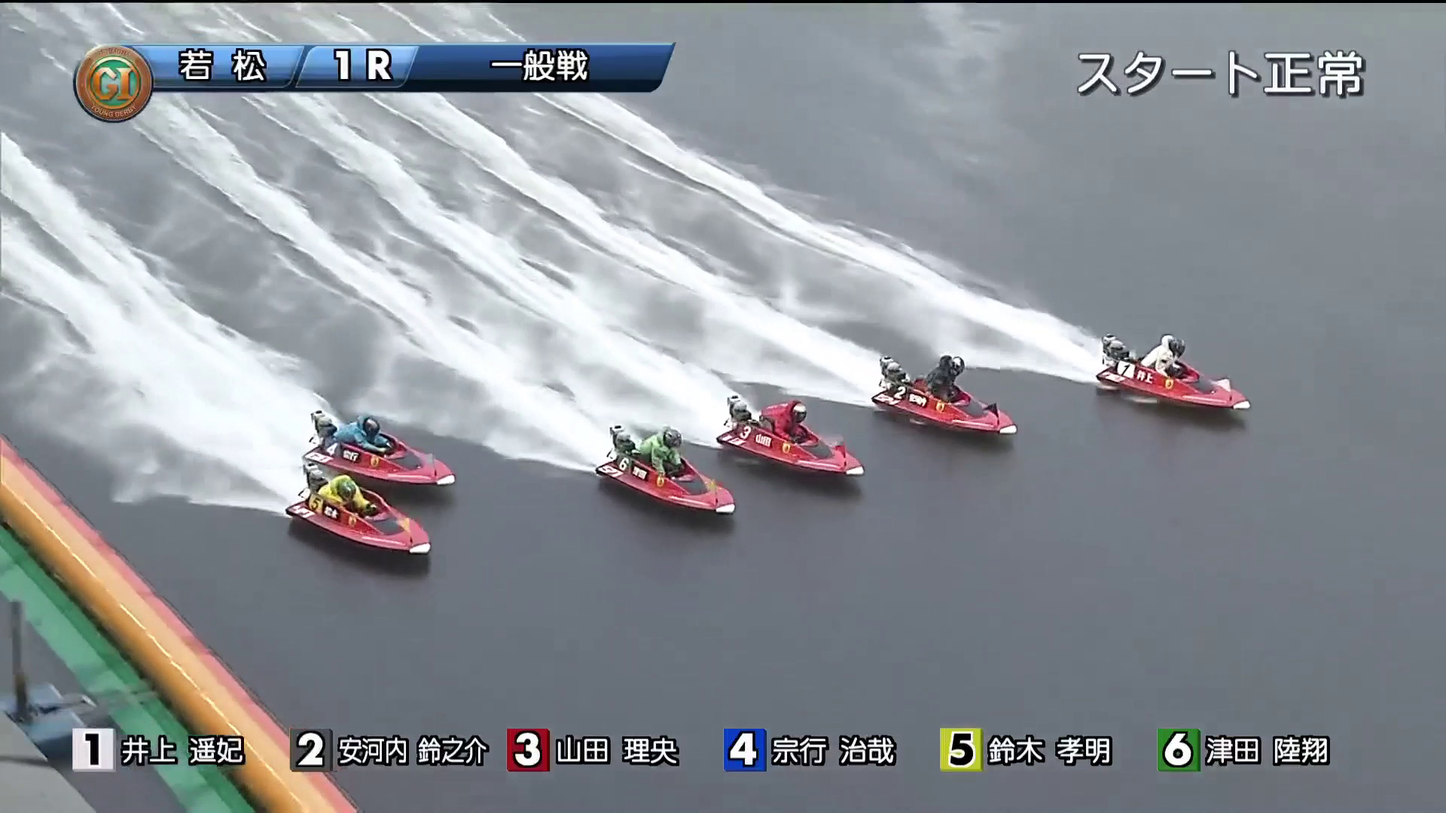１号艇: (1109, 347, 1241, 399)
２号艇: (887, 364, 1011, 422)
３号艇: (748, 425, 883, 467)
４号艇: (621, 454, 739, 517)
５号艇: (332, 431, 455, 486)
６号艇: (341, 516, 440, 572)
